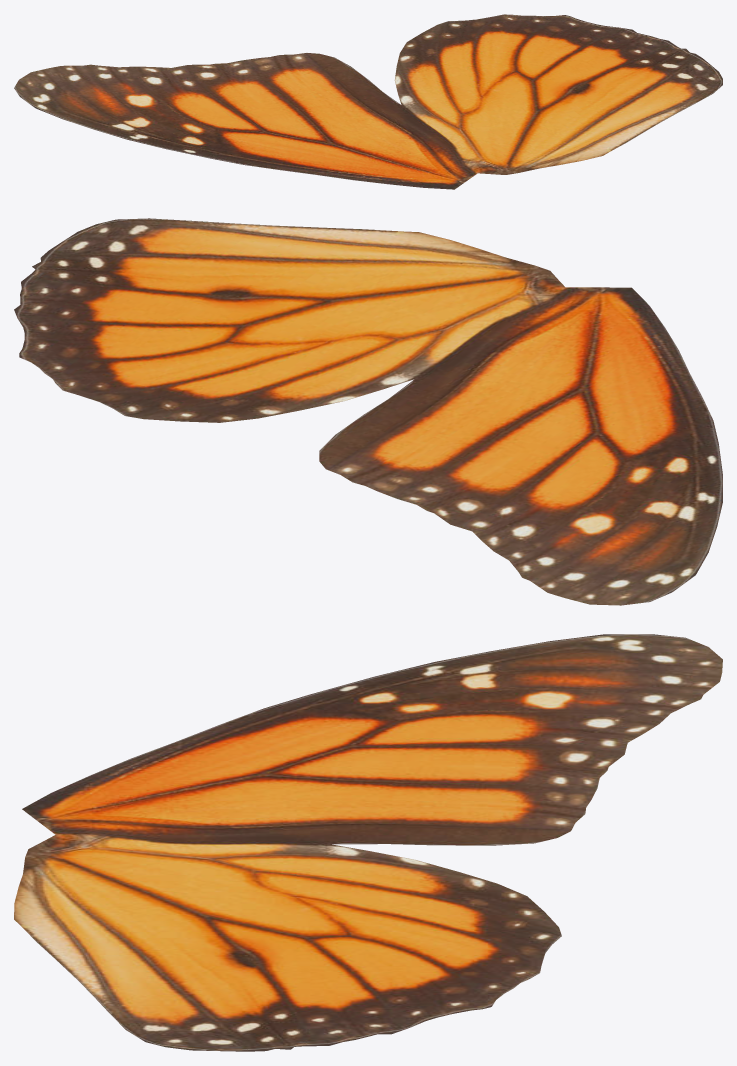
Rendered from Ala_derecha.obj.
3 renders of one model, top to bottom at view 1: azimuth 30°, elevation 25°; view 2: azimuth 150°, elevation 25°; view 3: azimuth 270°, elevation 25°, orthographic. The views are drawn at different scales.
Parts seen in each view (by area): view 1: polySurface1 butterfly1:Mesh, butterfly1:Mesh polySurface14, butterfly1:Mesh polySurface17, butterfly1:Mesh polySurface16, butterfly1:Mesh polySurface13, butterfly1:Mesh polySurface9, butterfly1:Mesh polySurface12, butterfly1:Mesh polySurface15, butterfly1:Mesh polySurface52, butterfly1:Mesh polySurface40, butterfly1:Mesh polySurface42, butterfly1:Mesh polySurface10 (+94 smaller); view 2: polySurface1 butterfly1:Mesh, butterfly1:Mesh polySurface14, butterfly1:Mesh polySurface9, butterfly1:Mesh polySurface17, butterfly1:Mesh polySurface13, butterfly1:Mesh polySurface16, butterfly1:Mesh polySurface40, butterfly1:Mesh polySurface12, butterfly1:Mesh polySurface42, butterfly1:Mesh polySurface10, butterfly1:Mesh polySurface52, butterfly1:Mesh polySurface15 (+95 smaller); view 3: polySurface1 butterfly1:Mesh, butterfly1:Mesh polySurface14, butterfly1:Mesh polySurface9, butterfly1:Mesh polySurface17, butterfly1:Mesh polySurface16, butterfly1:Mesh polySurface13, butterfly1:Mesh polySurface12, butterfly1:Mesh polySurface52, butterfly1:Mesh polySurface40, butterfly1:Mesh polySurface15, butterfly1:Mesh polySurface42, butterfly1:Mesh polySurface55 (+94 smaller).
Part boxes in pixels (box(x1,y1,x2,y2)): polySurface1 butterfly1:Mesh: box(262, 117, 477, 189); butterfly1:Mesh polySurface14: box(20, 97, 258, 117); butterfly1:Mesh polySurface17: box(19, 72, 258, 116); butterfly1:Mesh polySurface16: box(14, 80, 257, 116); butterfly1:Mesh polySurface13: box(36, 108, 256, 119); butterfly1:Mesh polySurface9: box(166, 117, 260, 158); butterfly1:Mesh polySurface12: box(63, 117, 258, 129); butterfly1:Mesh polySurface15: box(14, 88, 259, 117); butterfly1:Mesh polySurface52: box(395, 66, 536, 96); butterfly1:Mesh polySurface40: box(262, 67, 369, 116); butterfly1:Mesh polySurface42: box(262, 91, 400, 117); butterfly1:Mesh polySurface10: box(128, 117, 260, 148); polySurface1 butterfly1:Mesh: box(556, 287, 631, 445); butterfly1:Mesh polySurface14: box(557, 448, 695, 591); butterfly1:Mesh polySurface9: box(557, 443, 722, 474); butterfly1:Mesh polySurface17: box(556, 447, 620, 605); butterfly1:Mesh polySurface13: box(557, 447, 708, 575); butterfly1:Mesh polySurface16: box(556, 447, 649, 605); butterfly1:Mesh polySurface40: box(335, 414, 554, 446); butterfly1:Mesh polySurface12: box(556, 446, 716, 552); butterfly1:Mesh polySurface42: box(388, 379, 554, 445); butterfly1:Mesh polySurface10: box(556, 446, 722, 502); butterfly1:Mesh polySurface52: box(288, 311, 344, 410); butterfly1:Mesh polySurface15: box(556, 447, 672, 601); polySurface1 butterfly1:Mesh: box(22, 755, 400, 834); butterfly1:Mesh polySurface14: box(403, 634, 651, 754); butterfly1:Mesh polySurface9: box(310, 676, 401, 754); butterfly1:Mesh polySurface17: box(404, 647, 722, 754); butterfly1:Mesh polySurface16: box(405, 638, 707, 753); butterfly1:Mesh polySurface13: box(403, 634, 604, 753); butterfly1:Mesh polySurface12: box(402, 641, 548, 754); butterfly1:Mesh polySurface52: box(254, 860, 459, 927); butterfly1:Mesh polySurface40: box(402, 756, 491, 845); butterfly1:Mesh polySurface15: box(405, 634, 685, 753); butterfly1:Mesh polySurface42: box(332, 755, 401, 844); butterfly1:Mesh polySurface55: box(255, 896, 544, 928).
Bounding box in the file's own units: 0.1219 × 4e-06 × 0.0875.
Materials: 1 (1 with a texture image).
